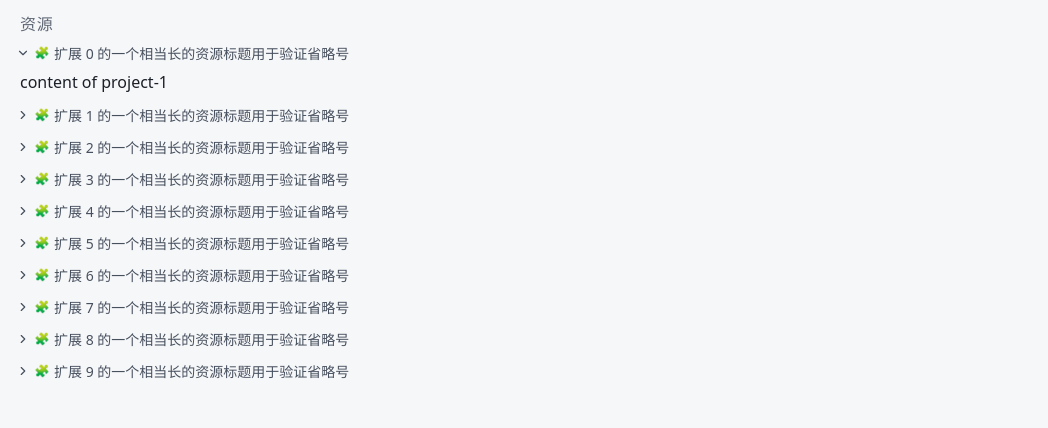
DLC visual conformance (spec §20/§34) › renders 10 synthetic DLC connectors as uniform host-owned Resource View sections
Check: the text "资源" is shown, box [20,16,53,32]
Check: the element with test id "synthetic-resource-0" is shown, box [20,71,168,93]
// Expanding a late section keeps the host chrome intact.
Click the button "🧩 扩展 9 的一个相当长的资源标题用于验证省略号" at x=202, y=371, box [12,357,1036,385]
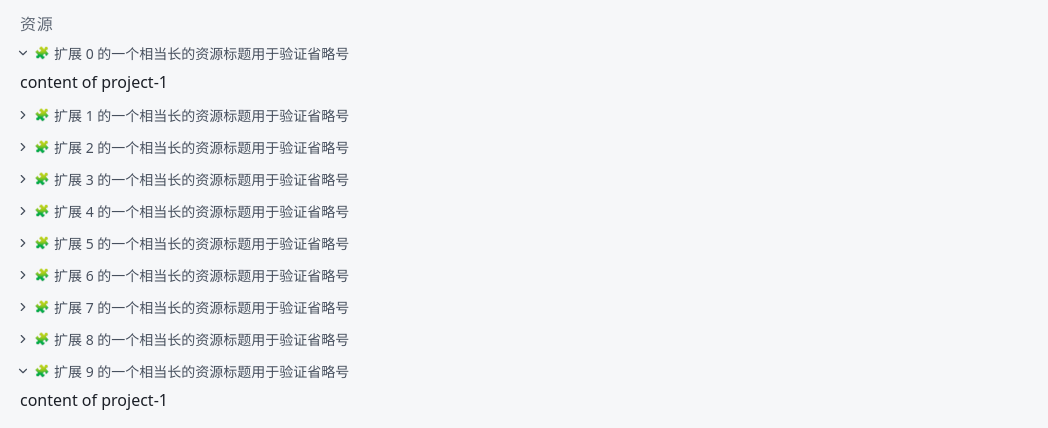
Check: the text "资源" is shown, box [20,16,53,32]
Check: the element with test id "synthetic-resource-9" is shown, box [20,389,168,411]
